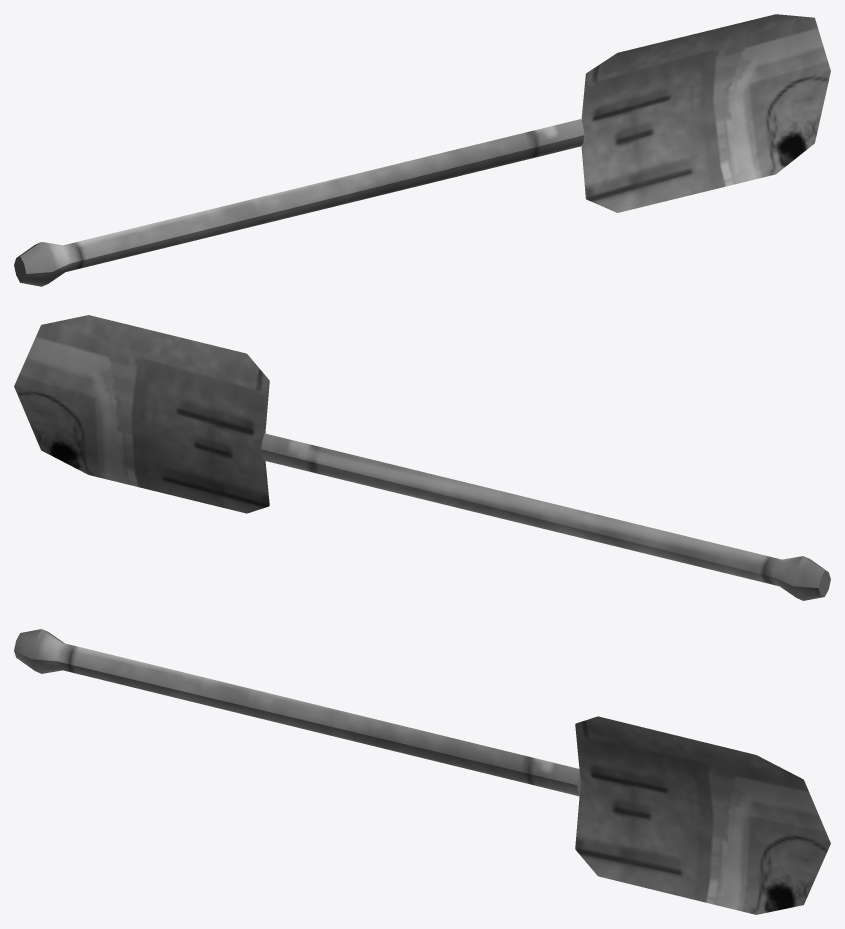
File: pelle.fbx
3 renders of one model, top to bottom at view 1: azimuth 30°, elevation 25°; view 2: azimuth 150°, elevation 25°; view 3: azimuth 330°, elevation 25°, orthographic.
Parts seen in each view (by area): view 1: clé; view 2: clé; view 3: clé.
Part boxes in pixels (bbox=[...]): clé: bbox=[14, 14, 830, 286]; clé: bbox=[14, 315, 830, 600]; clé: bbox=[14, 629, 830, 914].
Size of the model in its own units: 449 by 84.68 by 20.07.
